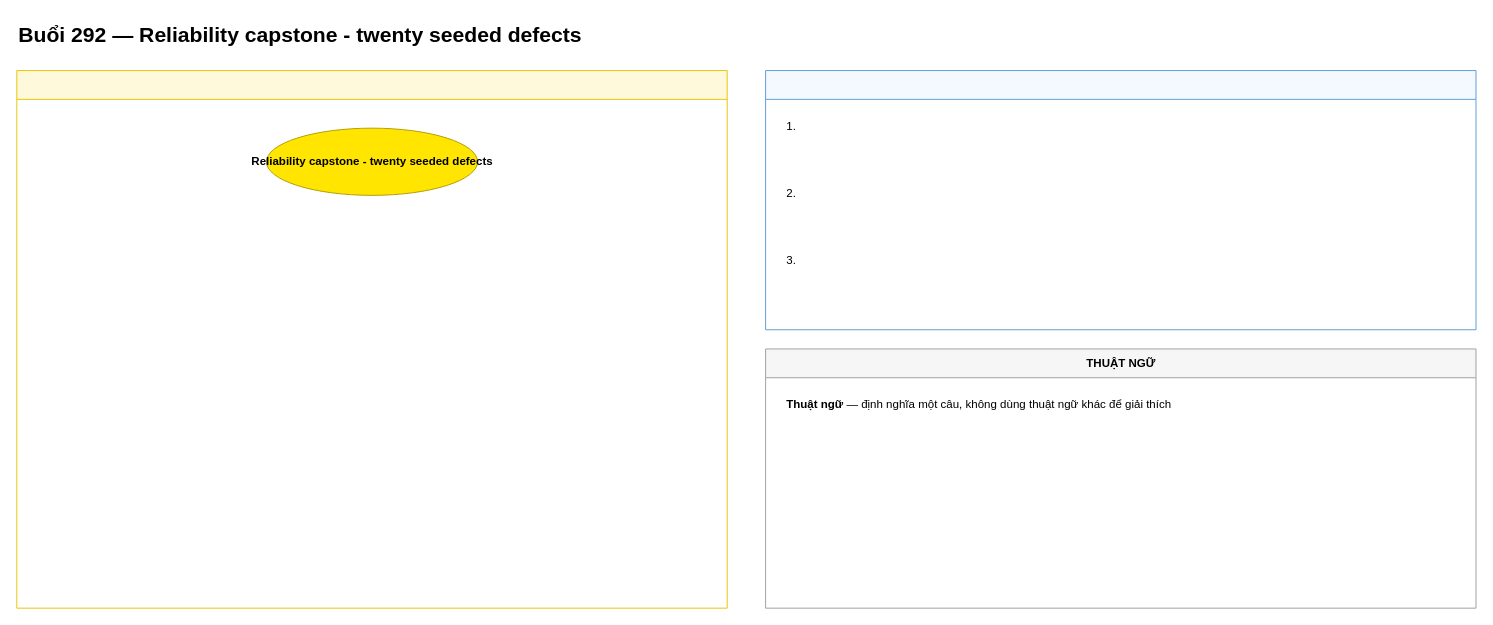
This 1493x625 diagram has some shape labels left out. Each missing label, with the box of its shape:
KEY TAKEAWAY — ba điều phải nhớ: (765, 70, 1476, 330)
MINDMAP: (16, 70, 727, 608)
